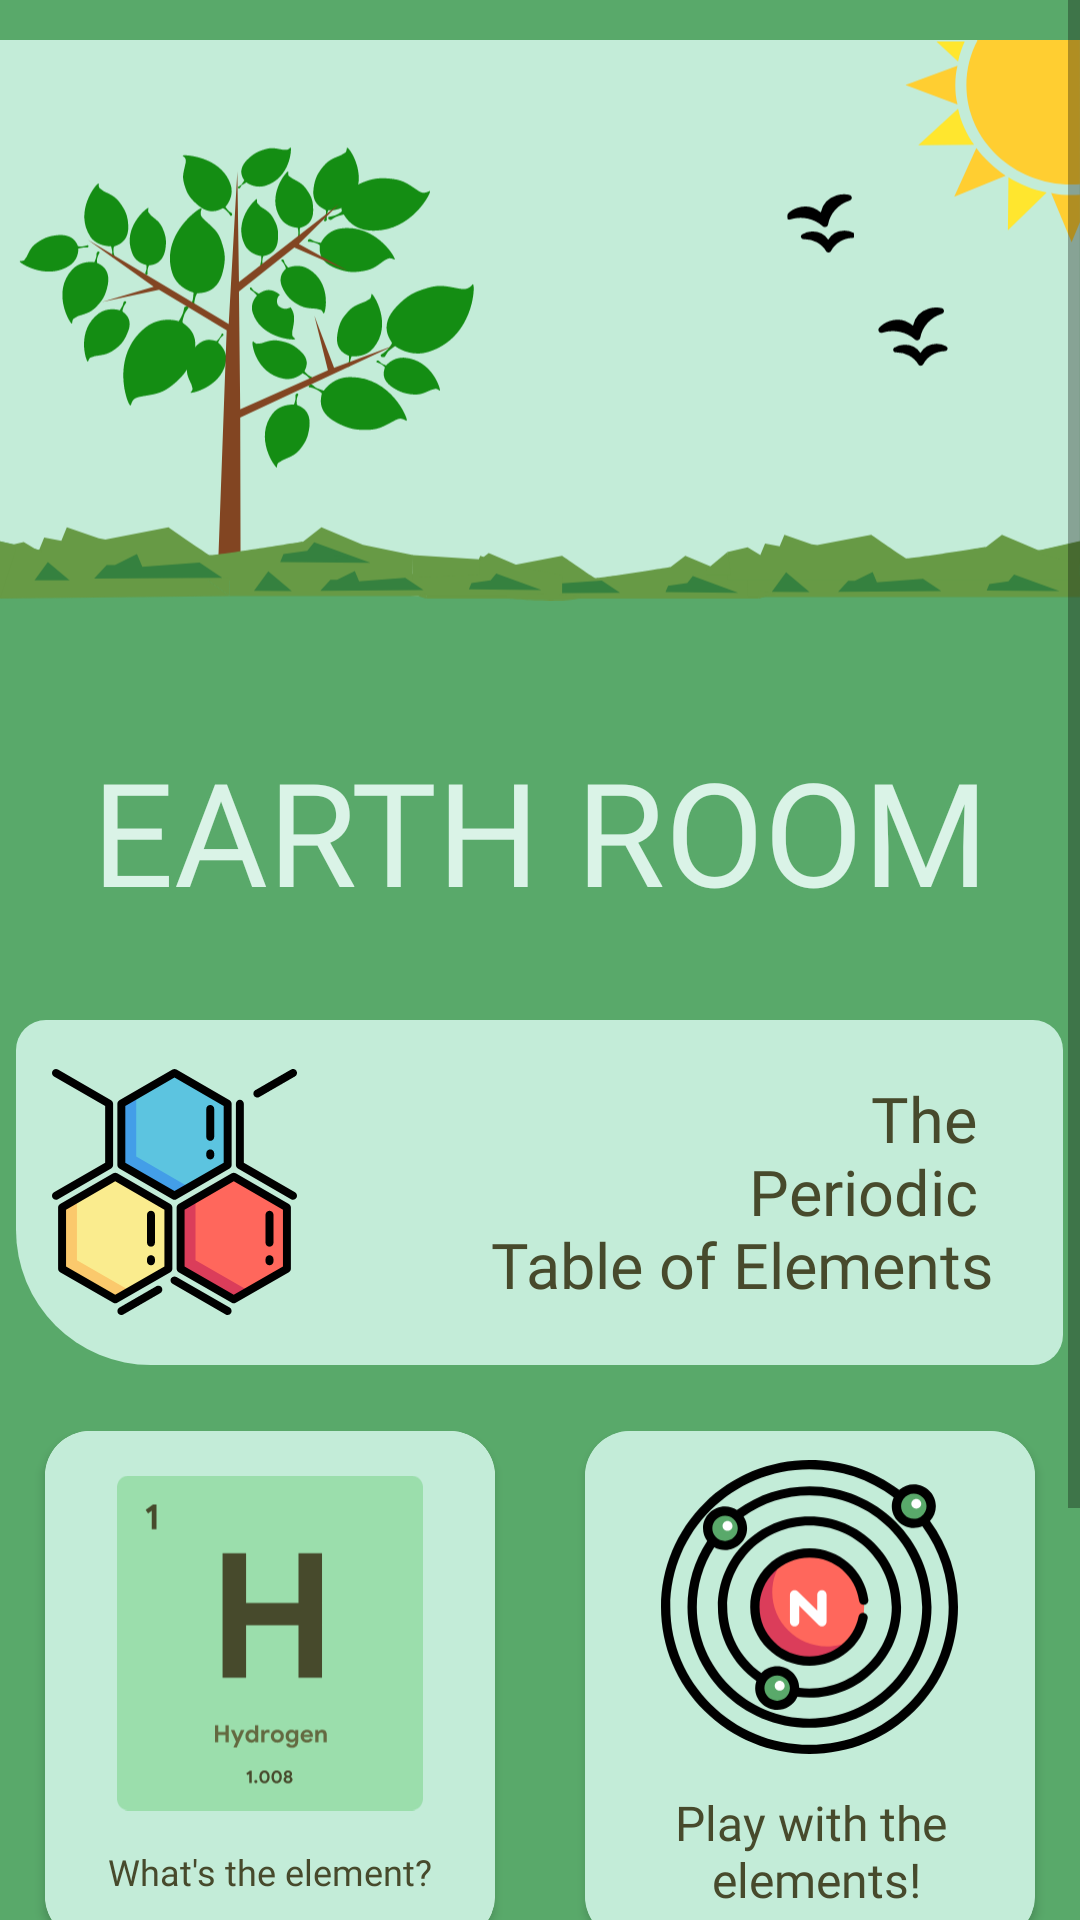

Where to tap for icons on this 1080×1920 app screen, as (x,y):
bohr: (809,1607)
molecule: (174,1192)
